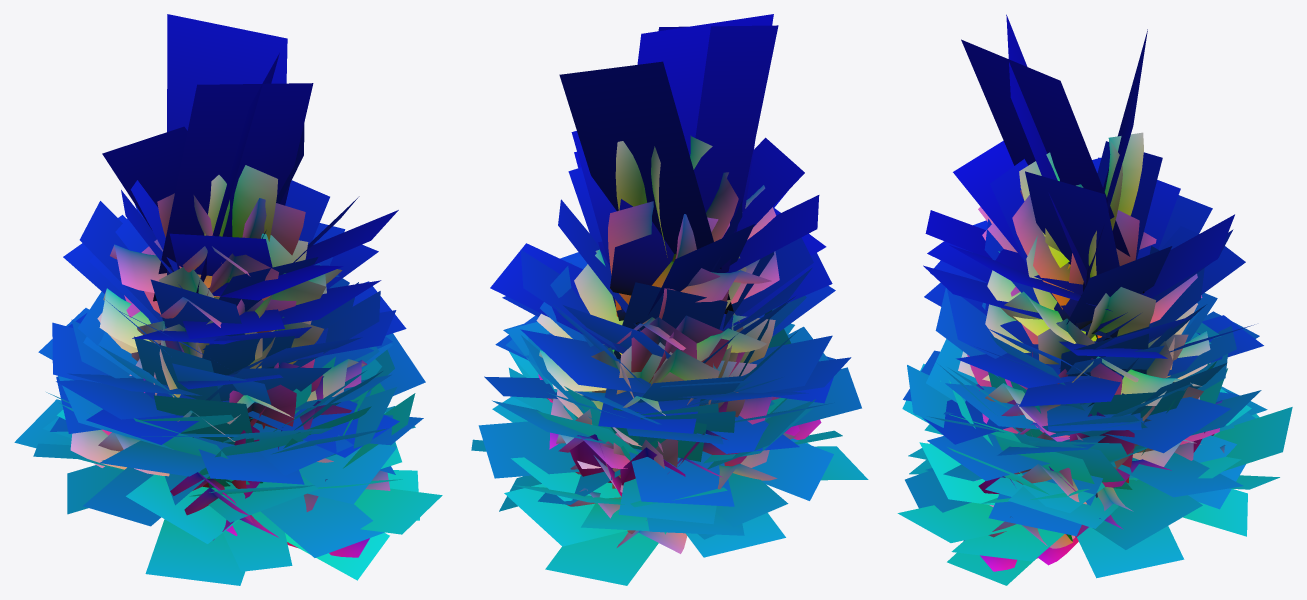
The model's file is spruce_03_4.fbx.
The picture shows the model from 3 angles, left to right: view 1: azimuth 30°, elevation 25°; view 2: azimuth 150°, elevation 25°; view 3: azimuth 270°, elevation 25°; orthographic projection. The views are drawn at different scales.
Visible parts, largest first — view 1: spruce_03_4_leaves_shadow, spruce_03_4_leaves_lod_0; view 2: spruce_03_4_leaves_shadow, spruce_03_4_leaves_lod_0; view 3: spruce_03_4_leaves_shadow, spruce_03_4_leaves_lod_0.
Part boxes in pixels (x1,y1,x2,y2): spruce_03_4_leaves_shadow: (14, 14, 442, 585); spruce_03_4_leaves_lod_0: (70, 165, 390, 557); spruce_03_4_leaves_shadow: (471, 14, 868, 585); spruce_03_4_leaves_lod_0: (536, 135, 821, 553); spruce_03_4_leaves_shadow: (897, 14, 1292, 585); spruce_03_4_leaves_lod_0: (958, 132, 1225, 571).
Size of what is drawn, in the model's own units: 4.53 by 6.53 by 4.7.
